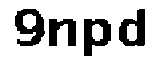9: (11, 6, 48, 48)
d: (115, 8, 149, 51)
n: (48, 16, 81, 55)
p: (83, 13, 112, 60)
